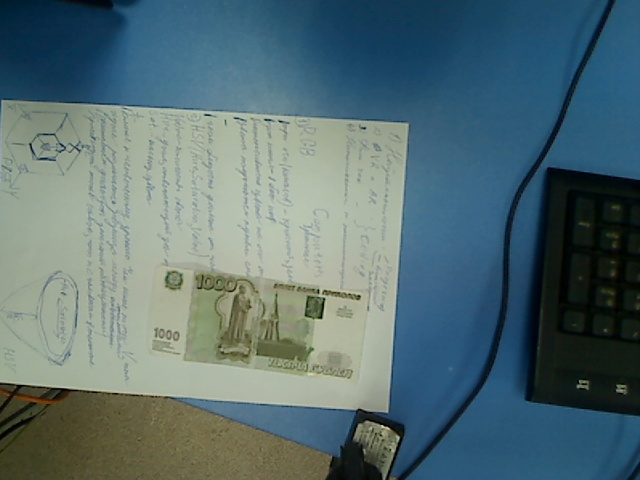banknotes: (144, 265, 365, 385)
